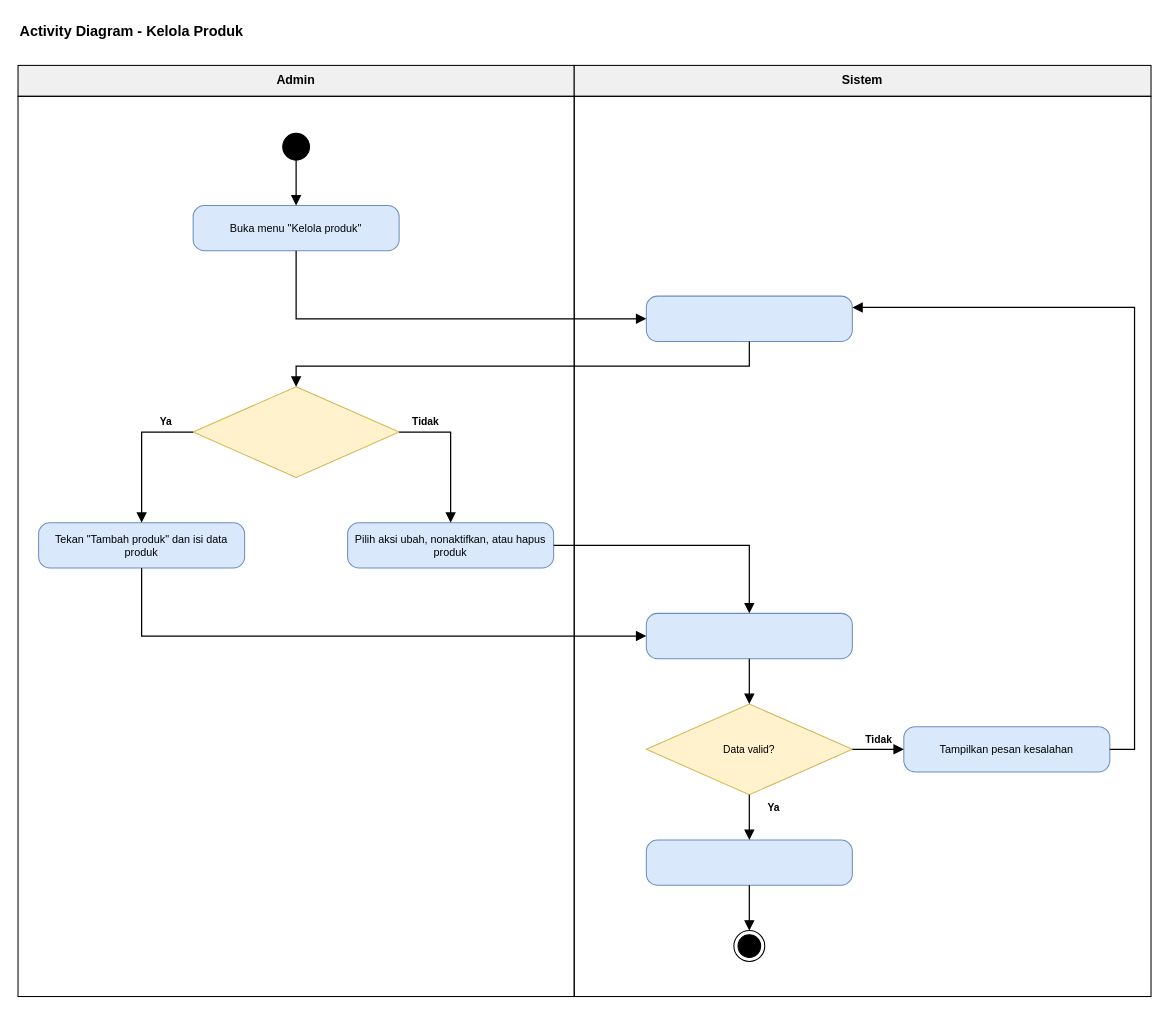
Image size: 1169x1015. Some labels were removed from this diagram. Each missing label, with the box of its shape:
Perbarui daftar produk dan katalog Beli: (645, 839, 852, 885)
Tambah produk baru?: (192, 386, 399, 477)
Tampilkan daftar produk (kapasitas, harga jual, stok, status): (645, 295, 852, 341)
Validasi data dan simpan ke basis data: (645, 612, 852, 659)
